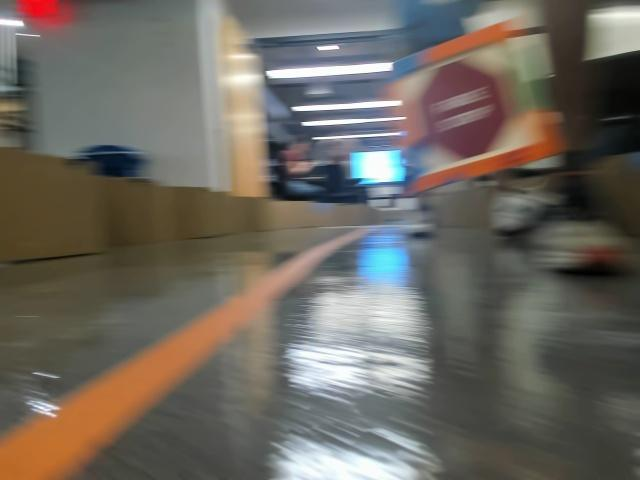Fake Stop: (405, 75, 497, 173)
